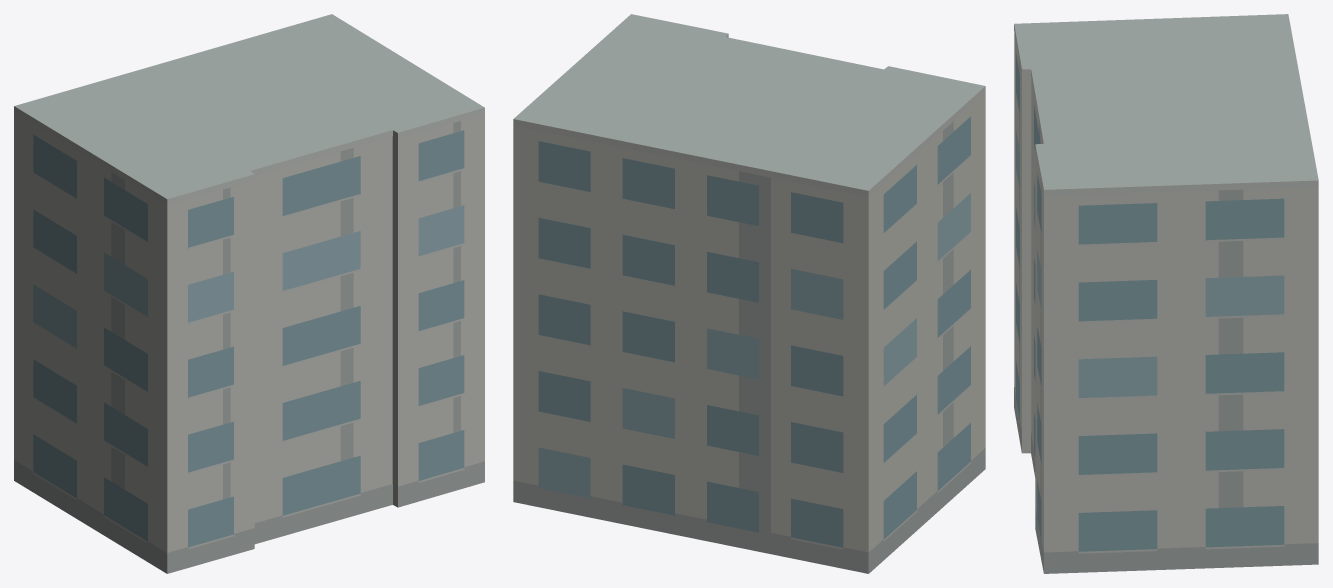
Rendered from survey-upis-32707933.glb.
3 renders of one model, left to right at view 1: azimuth 30°, elevation 25°; view 2: azimuth 150°, elevation 25°; view 3: azimuth 270°, elevation 25°, orthographic. The views are drawn at different scales.
Visible parts, largest first — view 1: survey-upis-32707933.tmp; view 2: survey-upis-32707933.tmp; view 3: survey-upis-32707933.tmp.
Part boxes in pixels (x1=…): survey-upis-32707933.tmp: x1=14, y1=14, x2=484, y2=573; survey-upis-32707933.tmp: x1=513, y1=14, x2=985, y2=573; survey-upis-32707933.tmp: x1=1014, y1=14, x2=1318, y2=573.
Bounding box in the file's own units: 14.05 × 14.3 × 10.29.
